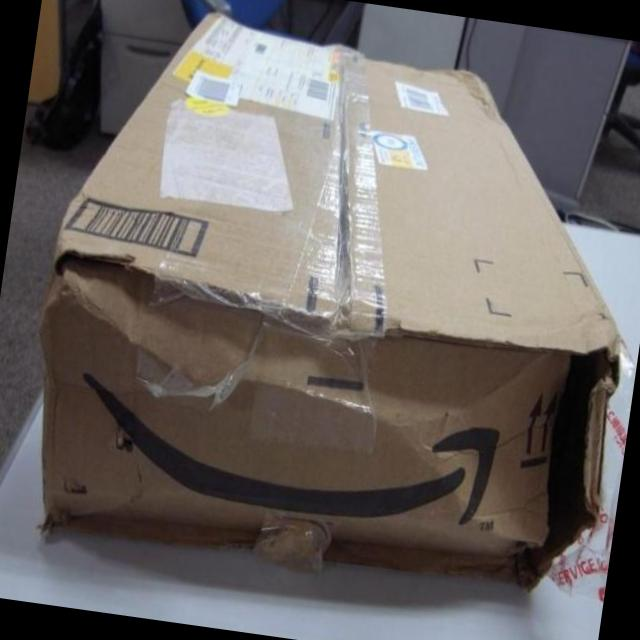box: (48, 1, 620, 597)
crushed: (52, 237, 548, 412), (44, 487, 516, 605)
tear: (515, 345, 615, 595)
